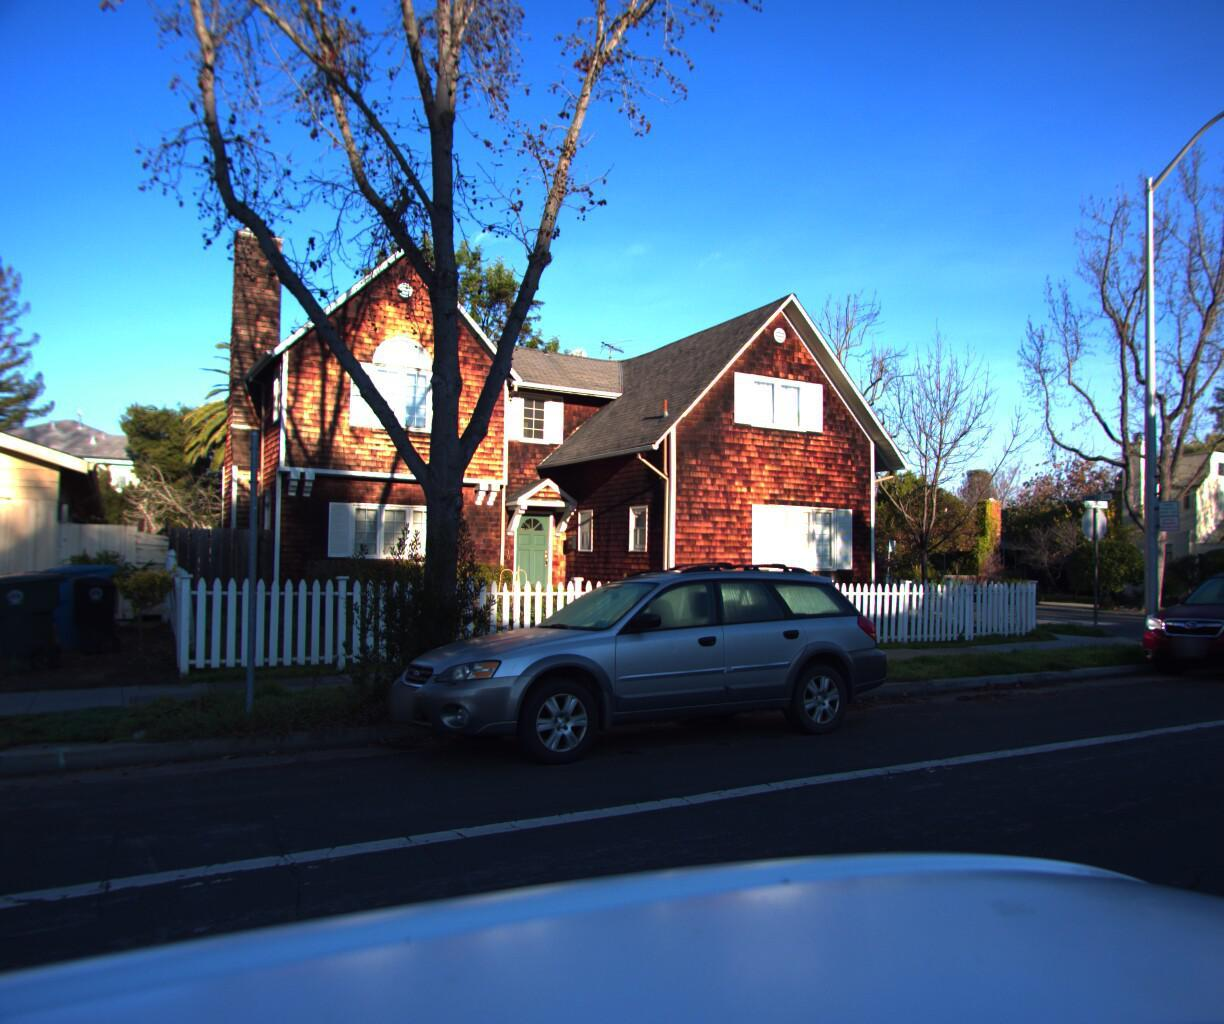car: (354, 548, 921, 796), (1108, 555, 1224, 690)
